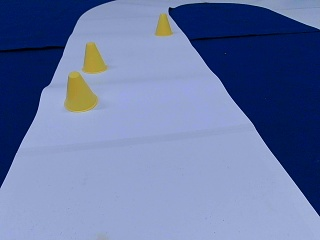cone: (63, 72, 97, 111), (81, 43, 107, 73), (155, 14, 172, 35)
